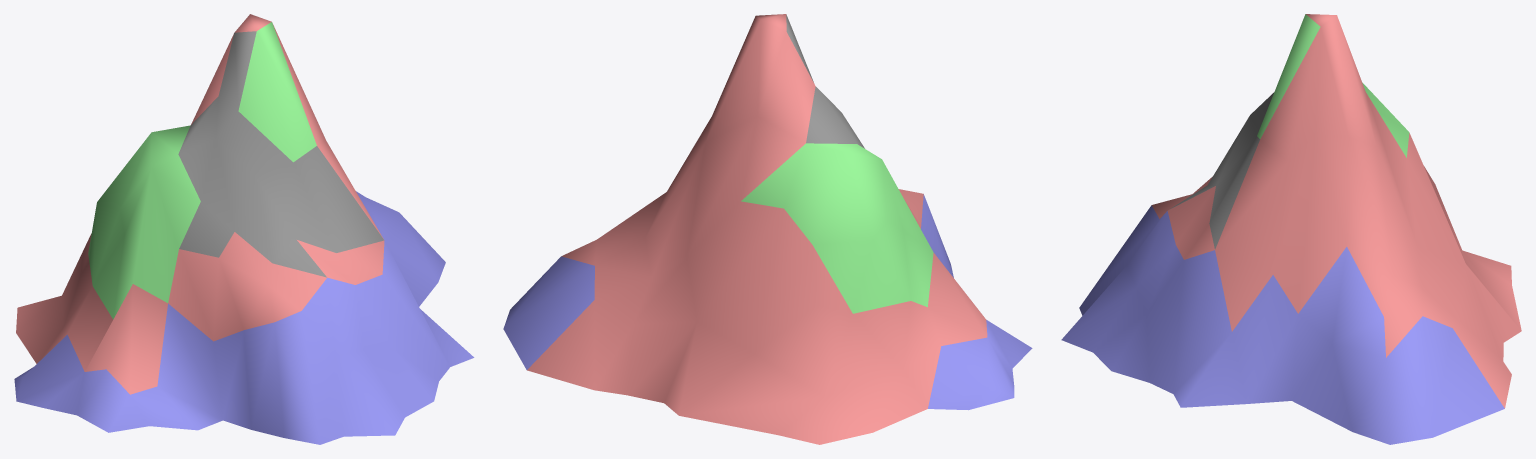
3 views of the same model, side by side, from view 1: azimuth 30°, elevation 25°; view 2: azimuth 150°, elevation 25°; view 3: azimuth 270°, elevation 25° (orthographic).
Visible parts, largest first — view 1: O_DE_MT_obj02; view 2: O_DE_MT_obj02; view 3: O_DE_MT_obj02.
Boxes of the visible parts, x1,y1,x2,y2 form: O_DE_MT_obj02: (14,14,474,444); O_DE_MT_obj02: (503,14,1032,444); O_DE_MT_obj02: (1061,14,1521,444).
Size of the model in its own units: 25.13 by 16.7 by 21.61.
